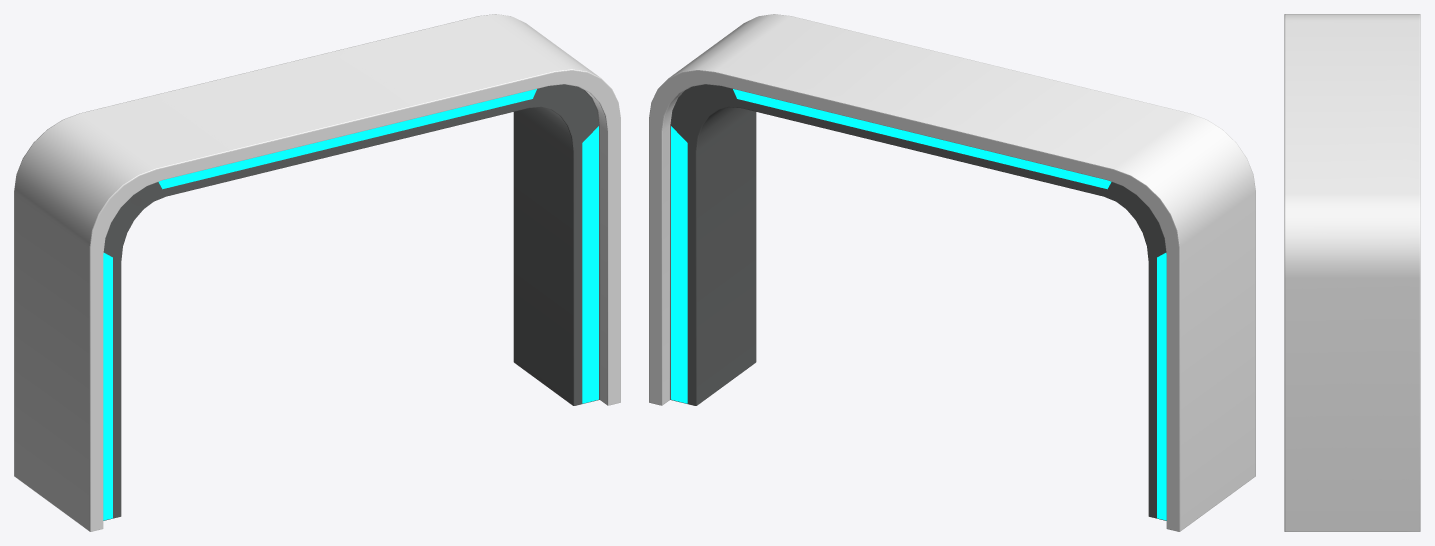
The model's file is EntryPortalWall.fbx.
3 views of the same model, side by side, from view 1: azimuth 30°, elevation 25°; view 2: azimuth 150°, elevation 25°; view 3: azimuth 270°, elevation 25° (orthographic). The views are drawn at different scales.
Visible parts, largest first — view 1: EntryPortalWall; view 2: EntryPortalWall; view 3: EntryPortalWall.
Part boxes in pixels (x1=…): EntryPortalWall: x1=14, y1=14, x2=620, y2=531; EntryPortalWall: x1=649, y1=14, x2=1255, y2=531; EntryPortalWall: x1=1284, y1=14, x2=1420, y2=531.
Bounding box in the file's own units: 240 × 150 × 60.
1 material, 1 textured.
